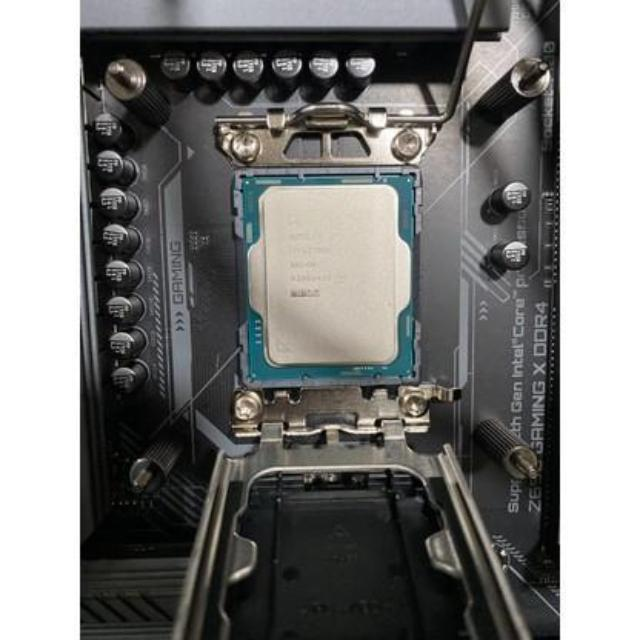CPU: (244, 178, 412, 376)
